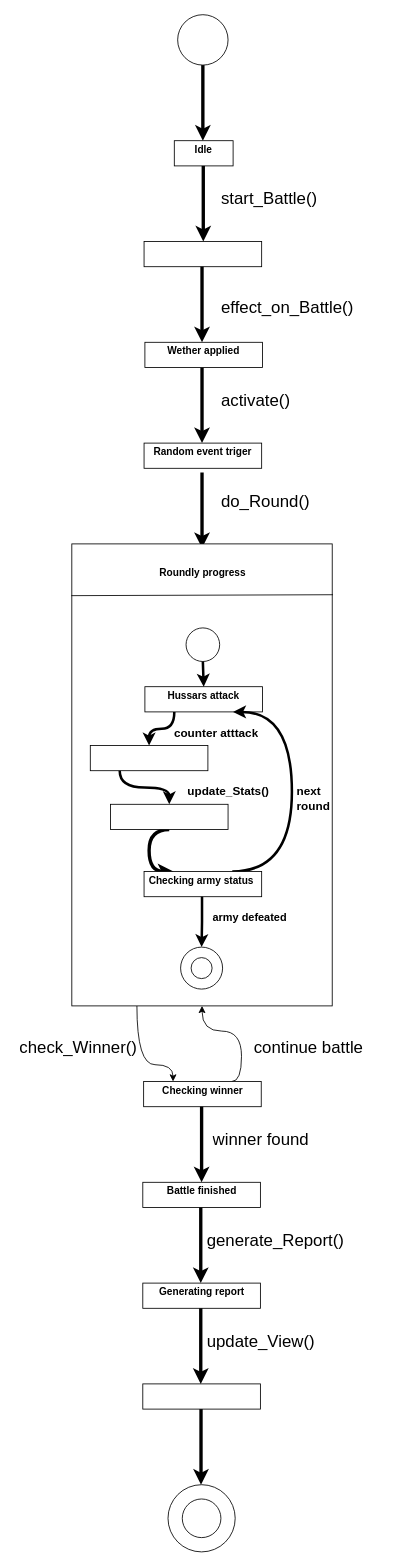
The diagram is 414 pixels wide and 1567 high, and some of its shapes have lost their labels. Each missing label, with the centre of its shape:
Battle started: point (202, 254)
GUI updated: point (201, 1396)
Teutonic counter attack: point (148, 758)
Updating stats: point (169, 816)
